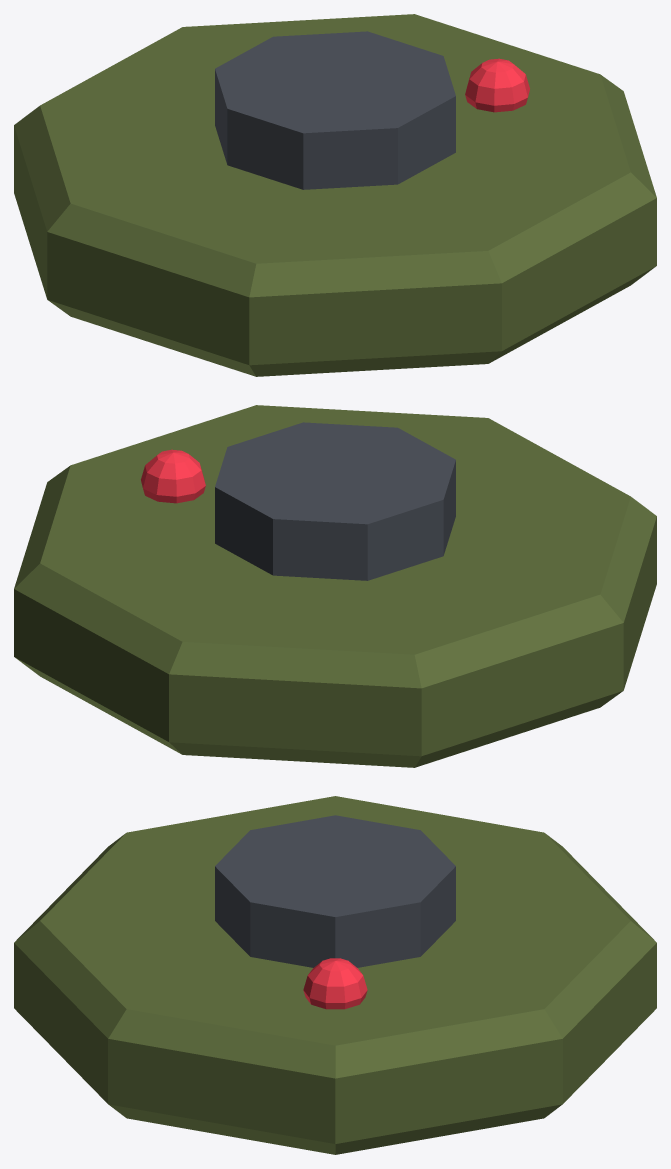
Rendered from Landmine.fbx.
3 views of the same model, one above another, from view 1: azimuth 30°, elevation 25°; view 2: azimuth 150°, elevation 25°; view 3: azimuth 270°, elevation 25° (orthographic). The views are drawn at different scales.
Visible parts, largest first — view 1: Landmine; view 2: Landmine; view 3: Landmine.
Part boxes in pixels (x1,y1,x2,y2): Landmine: [14, 14, 656, 376]; Landmine: [14, 405, 656, 767]; Landmine: [14, 796, 656, 1154].
Size of the model in its own units: 1.6 by 0.45 by 1.6.
1 material, 1 textured.
